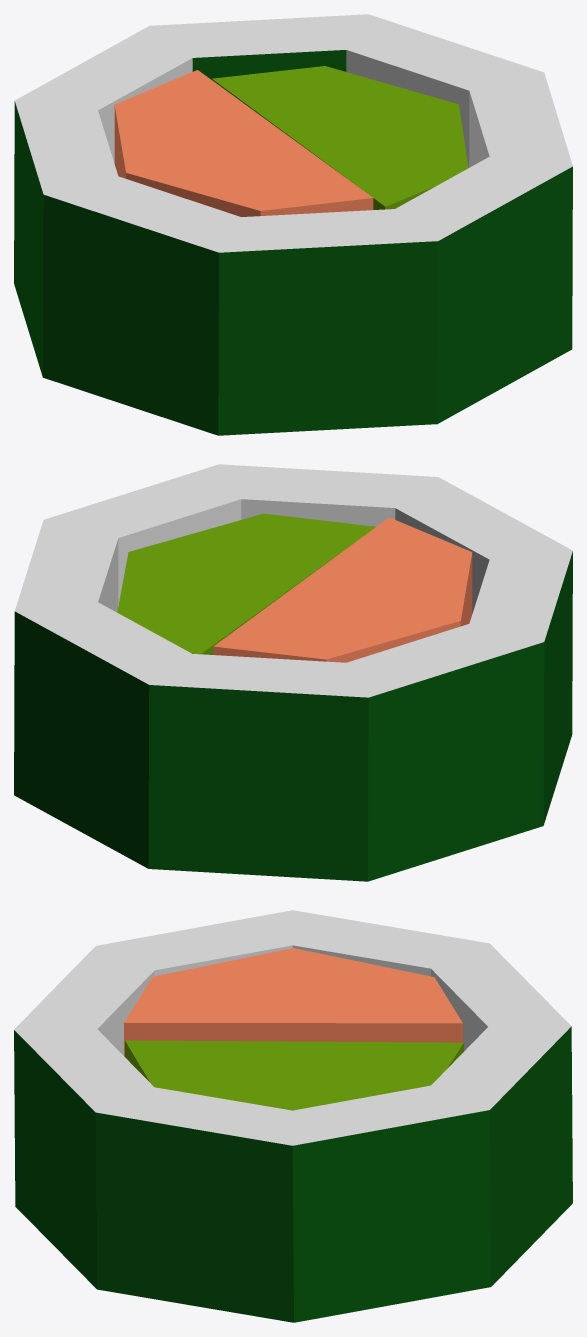
3 views of the same model, one above another, from view 1: azimuth 30°, elevation 25°; view 2: azimuth 150°, elevation 25°; view 3: azimuth 270°, elevation 25° (orthographic). The views are drawn at different scales.
Parts seen in each view (by area): view 1: Cylinder, Cube, Cube.001; view 2: Cylinder, Cube, Cube.001; view 3: Cylinder, Cube, Cube.001.
Part boxes in pixels (x1,y1,x2,y2): Cylinder: (14, 14, 572, 435); Cube: (114, 70, 373, 216); Cube.001: (212, 66, 468, 209); Cylinder: (14, 464, 572, 881); Cube: (213, 517, 472, 662); Cube.001: (117, 513, 375, 654); Cylinder: (14, 910, 572, 1322); Cube: (124, 948, 462, 1056); Cube.001: (125, 1040, 463, 1110).
Bounding box in the file's own units: 0.0724 × 0.0259 × 0.0725.
